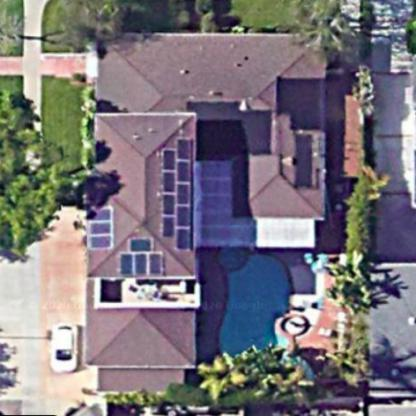car: (42, 314, 80, 376)
solar_panel: (155, 131, 200, 254), (111, 232, 169, 277), (78, 196, 121, 254)
swimming_pool: (202, 241, 332, 389)
